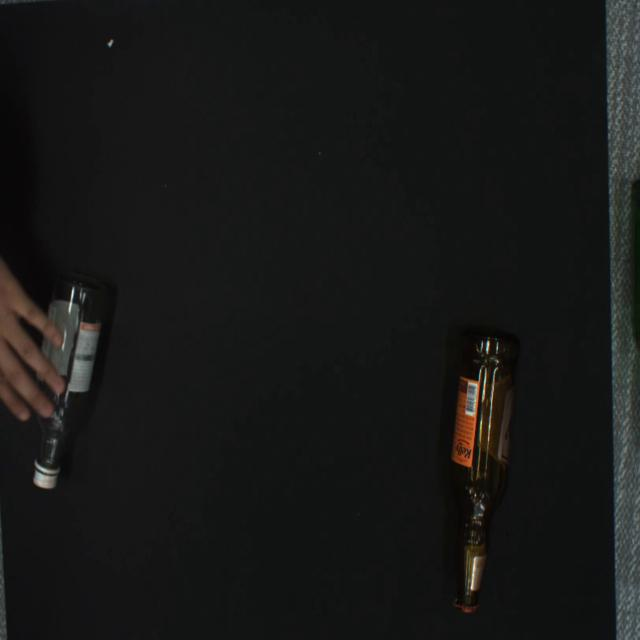beer-bottle: (447, 330, 519, 613)
soju-bottle: (31, 271, 108, 491)
